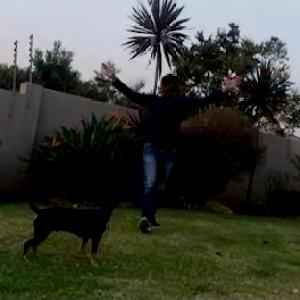takeoff: (102, 55, 248, 222)
